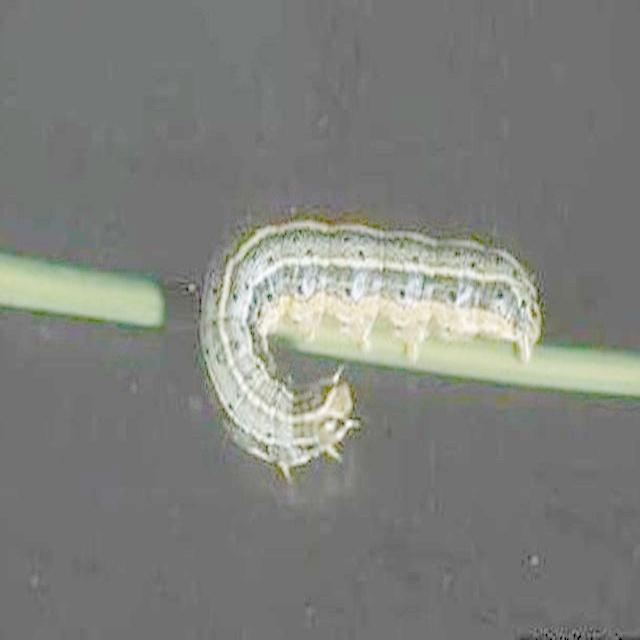gusano_cogollero: (204, 216, 532, 464)
